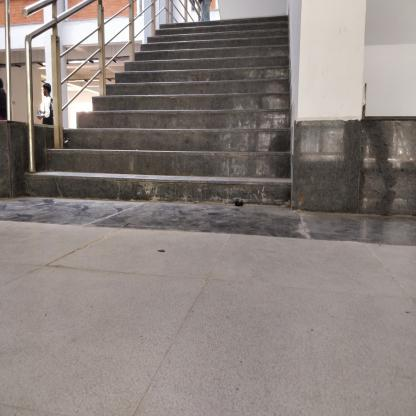stairs: (160, 14, 287, 216)
